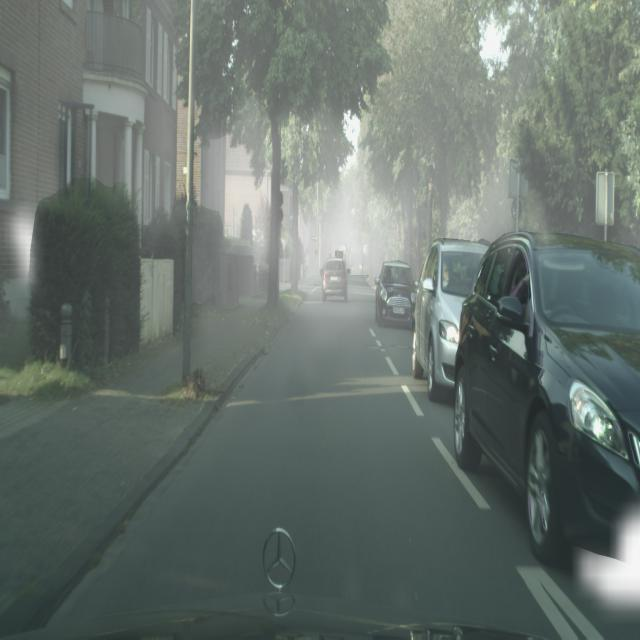truck: (452, 231, 640, 568), (412, 240, 489, 400), (375, 261, 417, 328), (322, 258, 348, 302)
